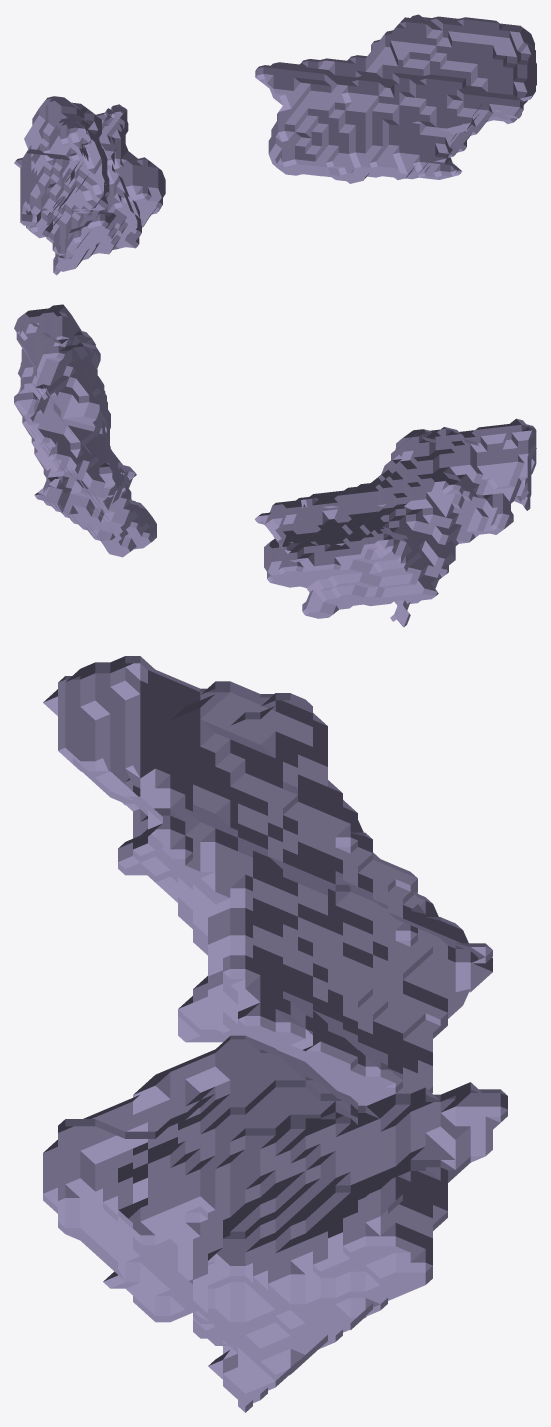
The model's file is region_0052_EmTm__medial_thalamic_eminence_.glb.
3 views of the same model, one above another, from view 1: azimuth 30°, elevation 25°; view 2: azimuth 150°, elevation 25°; view 3: azimuth 270°, elevation 25° (orthographic). The views are drawn at different scales.
Visible parts, largest first — view 1: world; view 2: world; view 3: world.
Boxes of the visible parts, x1=… form: world: x1=14, y1=14, x2=536, y2=275; world: x1=14, y1=304, x2=536, y2=627; world: x1=43, y1=656, x2=507, y2=1412.
Bounding box in the file's own units: 0.632 × 0.216 × 0.248.
